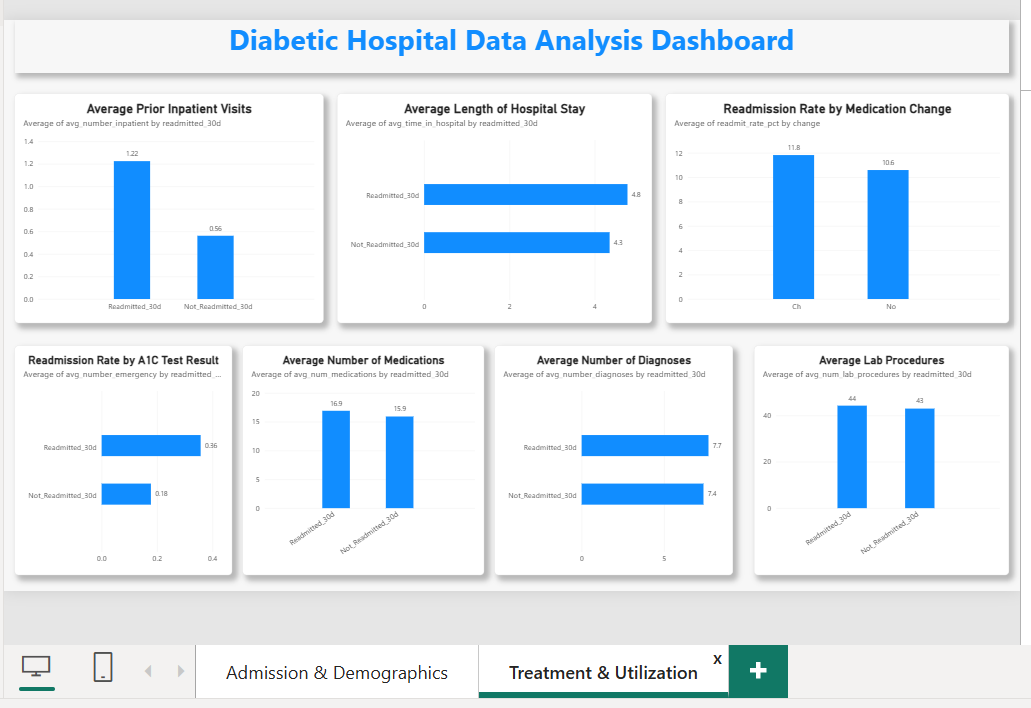

The page's visual inventory and layout, read from the dashboard file:
{"tool":"powerbi","page":{"name":"Treatment & Utilization","canvas":[1920,1080],"ordinal":1},"visuals":[{"type":"barChart","title":"Average Length of Hospital Stay","fields":{"Category":["hospital_diabetes readmit_by_length_of_stay.readmitted_30d"],"Y":["Avg(hospital_diabetes readmit_by_length_of_stay.avg_time_in_hospital)"]},"box":[629.3,138.9,595.3,433.7],"z":0},{"type":"columnChart","title":"Readmission Rate by Medication Change","fields":{"Category":["hospital_diabetes readmit_by_med_change.change"],"Y":["Avg(hospital_diabetes readmit_by_med_change.readmit_rate_pct)"]},"box":[1250.1,138.9,649.1,433.7],"z":1},{"type":"barChart","title":"Readmission Rate by A1C Test Result","fields":{"Category":["hospital_diabetes readmit_by_prior_utilization.readmitted_30d"],"Y":["Avg(hospital_diabetes readmit_by_prior_utilization.avg_number_emergency)"]},"box":[19.8,615.1,411,433.7],"z":2},{"type":"columnChart","title":"Average Lab Procedures","fields":{"Category":["hospital_diabetes readmit_by_treatment_intensity.readmitted_30d"],"Y":["Avg(hospital_diabetes readmit_by_treatment_intensity.avg_num_lab_procedures)"]},"box":[1417.3,615.1,481.9,433.7],"z":3},{"type":"columnChart","title":"Average Prior Inpatient Visits","fields":{"Category":["hospital_diabetes readmit_by_prior_utilization.readmitted_30d"],"Y":["Avg(hospital_diabetes readmit_by_prior_utilization.avg_number_inpatient)"]},"box":[19.8,138.9,583.9,433.7],"z":4},{"type":"columnChart","title":"Average Number of Medications","fields":{"Category":["hospital_diabetes readmit_by_treatment_intensity.readmitted_30d"],"Y":["Avg(hospital_diabetes readmit_by_treatment_intensity.avg_num_medications)"]},"box":[450.7,615.1,456.4,433.7],"z":5},{"type":"barChart","title":"Average Number of Diagnoses","fields":{"Y":["Avg(hospital_diabetes readmit_by_treatment_intensity.avg_number_diagnoses)"],"Category":["hospital_diabetes readmit_by_treatment_intensity.readmitted_30d"]},"box":[926.9,615.1,450.7,433.7],"z":6},{"type":"textbox","box":[19.8,0,1879.4,99.2],"z":7}]}

Visuals, with their boxes on the page's 1920x1080 design canvas (x1, y1, x2, y2). These are canvas units, not pixel positions in the 1031x708 screenshot, which may show the page scaled, cropped or inside an application window:
"Average Length of Hospital Stay" barChart: left=629, top=139, right=1225, bottom=573
"Readmission Rate by Medication Change" columnChart: left=1250, top=139, right=1899, bottom=573
"Readmission Rate by A1C Test Result" barChart: left=20, top=615, right=431, bottom=1049
"Average Lab Procedures" columnChart: left=1417, top=615, right=1899, bottom=1049
"Average Prior Inpatient Visits" columnChart: left=20, top=139, right=604, bottom=573
"Average Number of Medications" columnChart: left=451, top=615, right=907, bottom=1049
"Average Number of Diagnoses" barChart: left=927, top=615, right=1378, bottom=1049
textbox: left=20, top=0, right=1899, bottom=99
